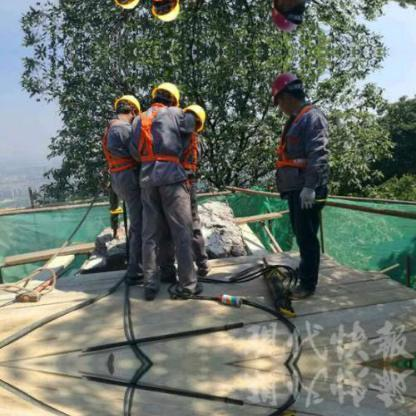helmet: (269, 74, 300, 100), (149, 82, 181, 105), (110, 93, 143, 113), (186, 101, 211, 127)
